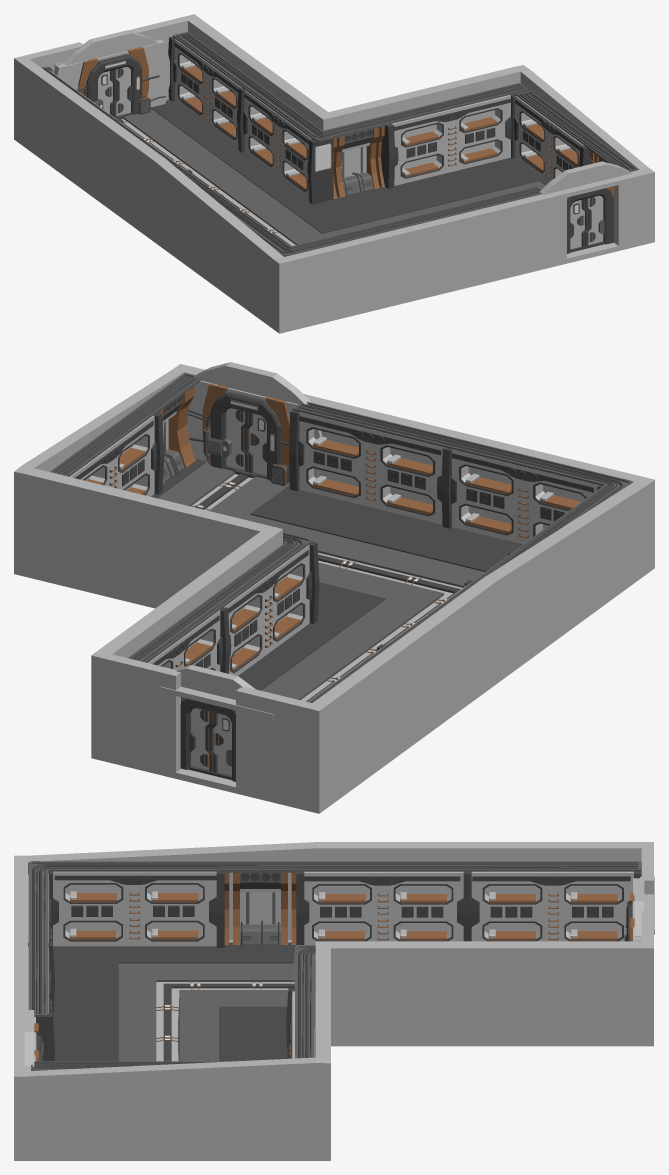
The model's file is Dortoir.fbx.
The picture shows the model from 3 angles, top to bottom: view 1: azimuth 30°, elevation 25°; view 2: azimuth 150°, elevation 25°; view 3: azimuth 270°, elevation 25°; orthographic projection. The views are drawn at different scales.
Parts seen in each view (by area): view 1: Cube.008, Cube.016, Cube.018, Cube.020, Cube.028, Cube.022, Cube.023, Cube.017, Cube.019, Cube.021, Cube.011, Cube.010 (+2 smaller); view 2: Cube.008, Cube.016, Cube.012, Cube.009, Cube.020, Cube.023, Cube.017, Cube.022, Cube.028, Cube.021, Cube.002, Cube.026 (+3 smaller); view 3: Cube.008, Cube.016, Cube.013, Cube.014, Cube.029, Cube.023, Cube.015, Cube.022, Cube.021, Cube.012, Cube.018, Cube.009.
Boxes of the visible parts, box(x1,y1,x2,y2) form: Cube.008: box(14, 14, 654, 333); Cube.016: box(123, 100, 548, 246); Cube.018: box(381, 89, 529, 188); Cube.020: box(243, 90, 333, 204); Cube.028: box(168, 36, 244, 152); Cube.022: box(173, 32, 527, 141); Cube.023: box(41, 66, 541, 256); Cube.017: box(513, 96, 592, 182); Cube.019: box(333, 126, 384, 198); Cube.021: box(516, 90, 637, 171); Cube.011: box(585, 195, 603, 246); Cube.010: box(570, 199, 588, 249); Cube.008: box(14, 362, 654, 813); Cube.016: box(151, 458, 522, 701); Cube.012: box(289, 410, 444, 524); Cube.009: box(441, 447, 598, 544); Cube.020: box(224, 541, 319, 675); Cube.023: box(293, 402, 631, 702); Cube.017: box(69, 412, 164, 496); Cube.022: box(128, 532, 311, 662); Cube.028: box(148, 607, 230, 673); Cube.021: box(50, 373, 200, 476); Cube.002: box(159, 386, 195, 484); Cube.026: box(191, 708, 213, 771); Cube.008: box(14, 842, 654, 1160); Cube.016: box(53, 942, 295, 1061); Cube.013: box(28, 863, 224, 947); Cube.014: box(296, 871, 471, 944); Cube.029: box(471, 863, 641, 941); Cube.023: box(28, 861, 640, 1016); Cube.015: box(224, 872, 296, 945); Cube.022: box(295, 945, 315, 1058); Cube.021: box(31, 1061, 231, 1070); Cube.012: box(28, 946, 54, 1061); Cube.018: box(286, 988, 315, 1058); Cube.009: box(28, 874, 54, 1017).
Size of the model in its own units: 8775 by 1908 by 10765.
